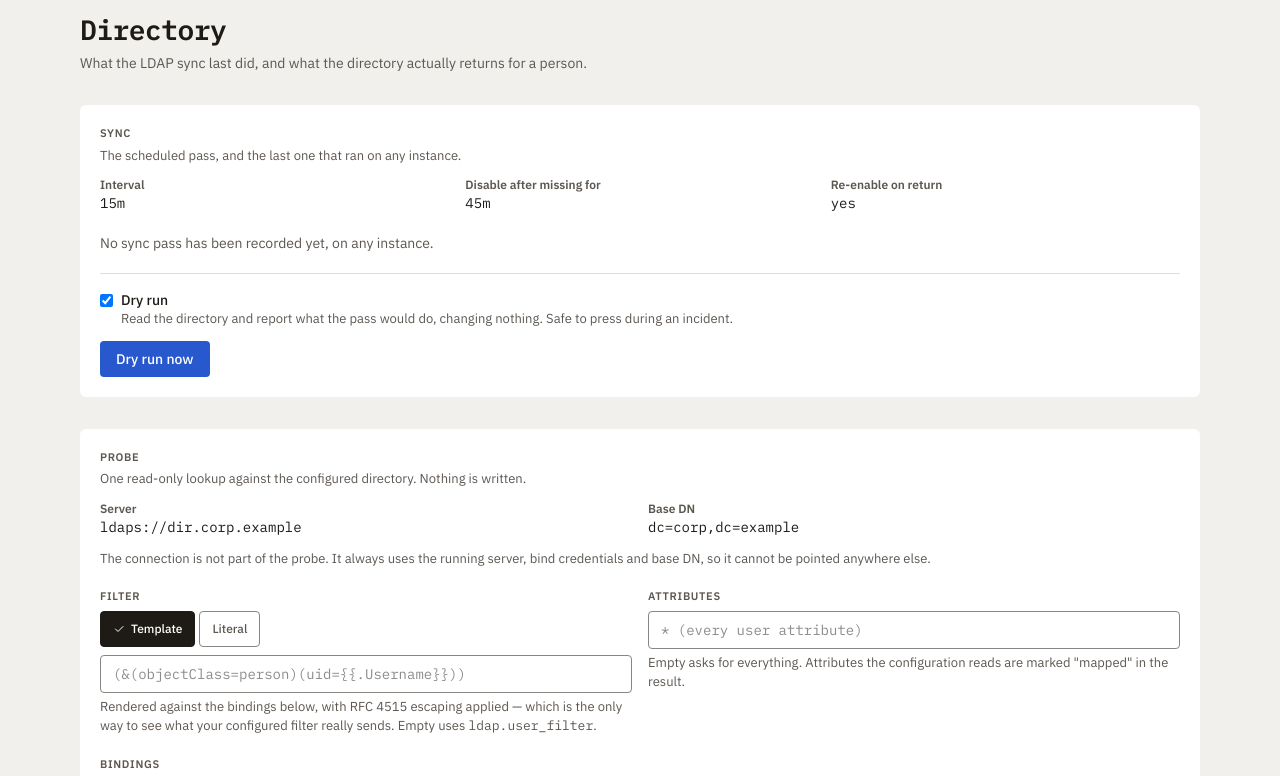
Directory admin page › the sync panel › should report a pass that could not reach the directory
This screenshot has width=1280, height=776.
What coordinates should you click on to do the following:
click the button with test id "ldap-run-sync"
I would click on:
 (155, 359)
Its box is [100, 341, 210, 377].
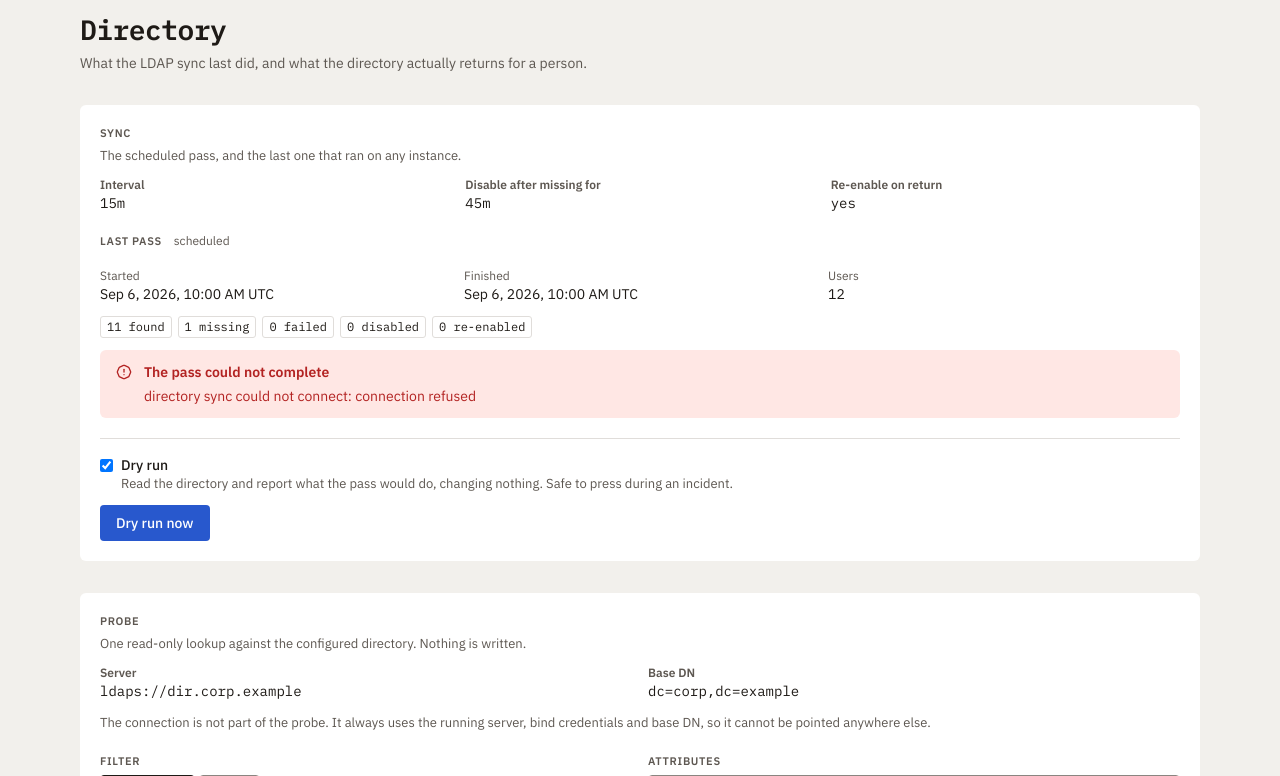
Check: the message with test id "ldap-run-error" shows "connection refused", box [144, 386, 476, 404]
